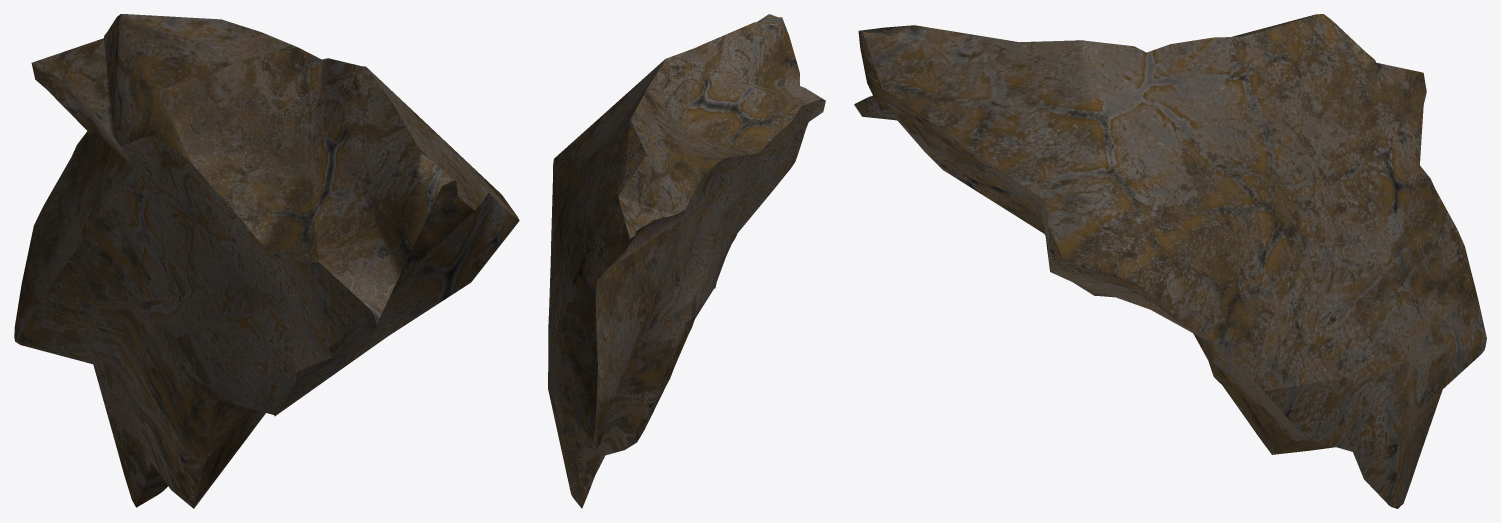
Rendered from RockShard8.fbx.
The picture shows the model from 3 angles, left to right: view 1: azimuth 30°, elevation 25°; view 2: azimuth 150°, elevation 25°; view 3: azimuth 270°, elevation 25°; orthographic projection. The views are drawn at different scales.
Visible parts, largest first — view 1: RockShard8; view 2: RockShard8; view 3: RockShard8.
Part boxes in pixels (bbox=[...]): RockShard8: bbox=[14, 14, 519, 508]; RockShard8: bbox=[548, 14, 825, 508]; RockShard8: bbox=[854, 14, 1486, 508].
Size of the model in its own units: 30.6 by 55.32 by 64.79.
